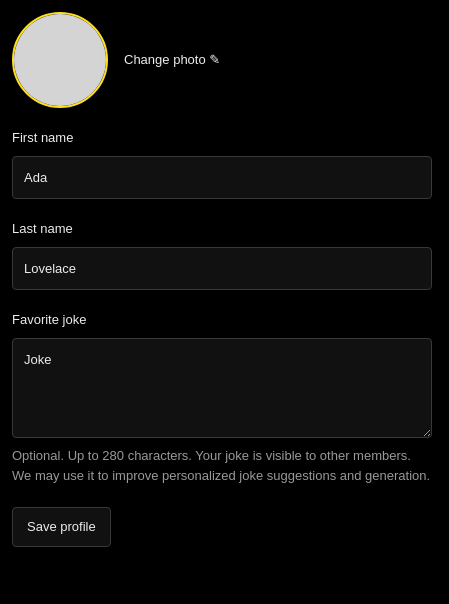
Test: shows a stable success status after saving and clears it after a new edit
The width and height of the screenshot is (449, 604).
Replace the text in the text box labelled "Favorite joke" with "Saved joke" at (222,388), box top-left (12, 338), bottom-right (432, 438)
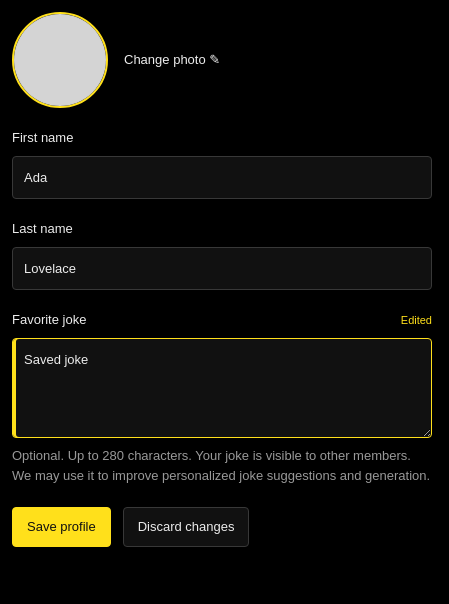
Click the button "Save profile" at (61,527), box top-left (12, 507), bottom-right (111, 547)
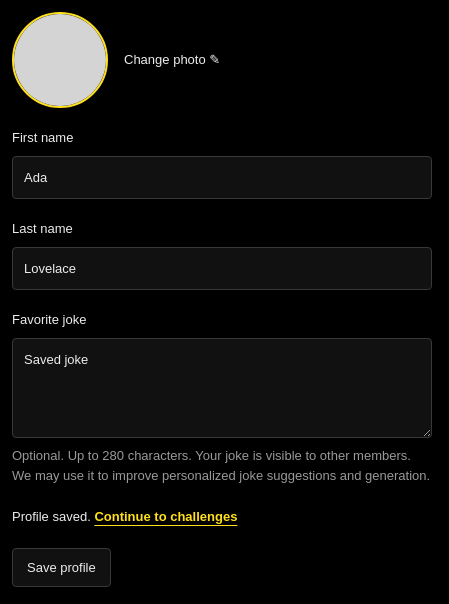
Result: the text "Profile saved." is shown at top-left (12, 509), bottom-right (94, 524)
Replace the text in the text box labelled "Favorite joke" with "Unsaved tweak" at (222,388), box top-left (12, 338), bottom-right (432, 438)
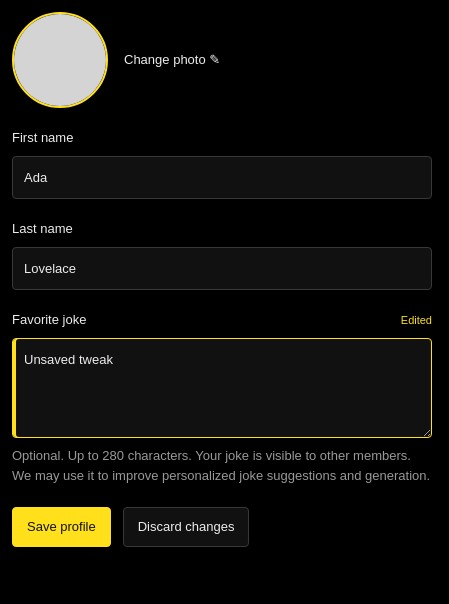
Result: the text "Profile saved." is gone
